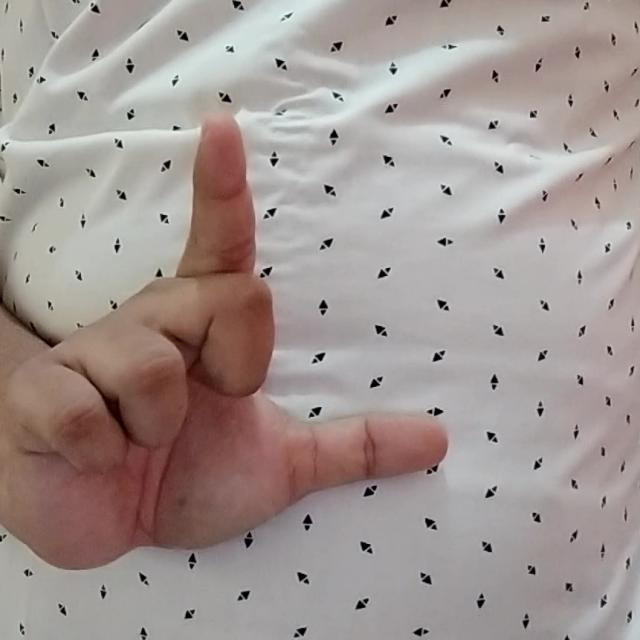L: (9, 100, 460, 578)
